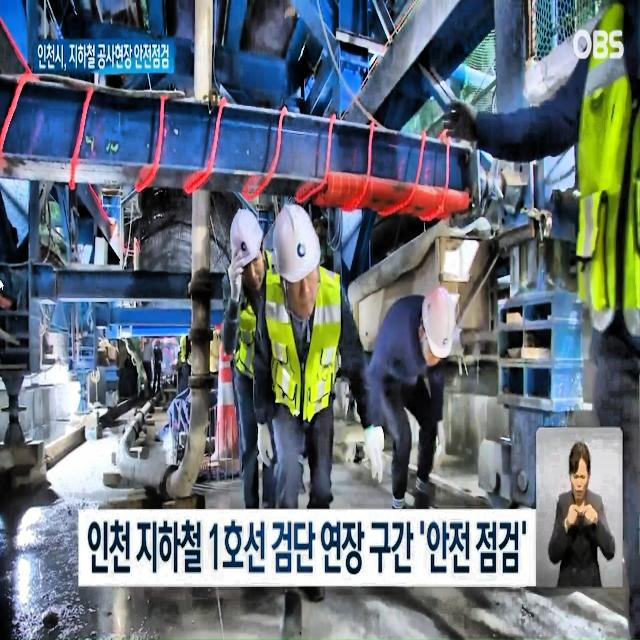safety_helmet: (272, 200, 322, 286), (418, 283, 456, 362), (227, 205, 264, 275)
safety_jacket: (569, 17, 640, 346), (264, 271, 345, 415), (228, 260, 286, 383)
